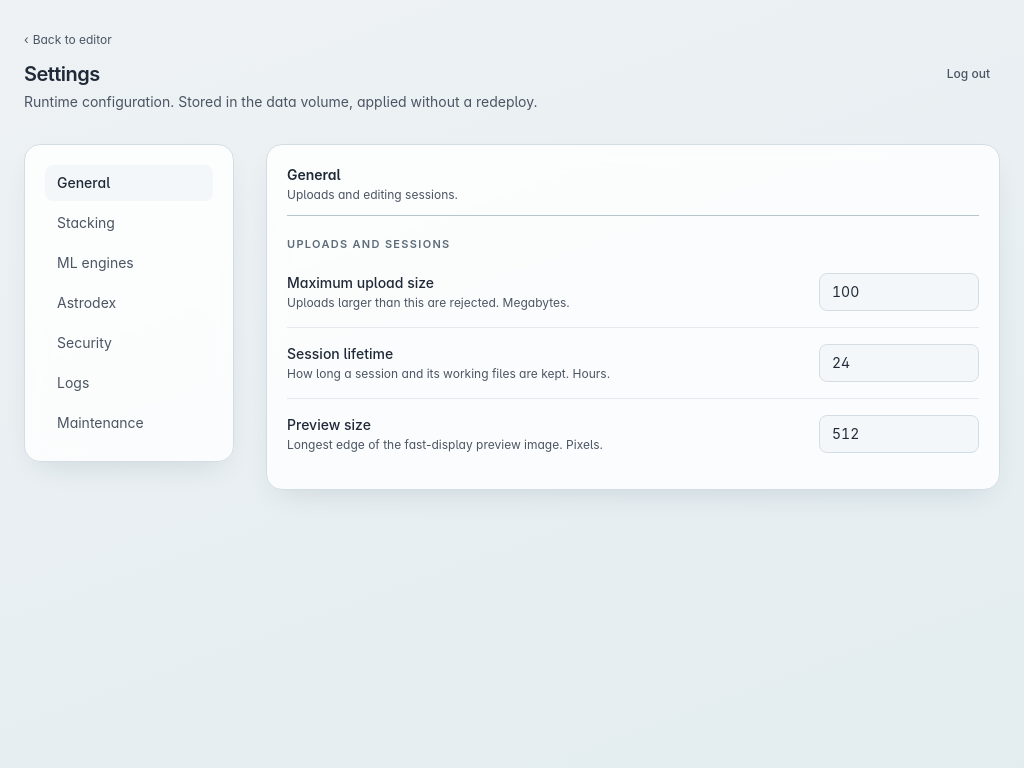
Test case: SettingsView › tails the log file under the Logs section
Check: the number field labelled "Maximum upload size" is shown, box [819, 272, 979, 310]
Click the button "Logs". click: (129, 383)
box: [45, 365, 213, 401]
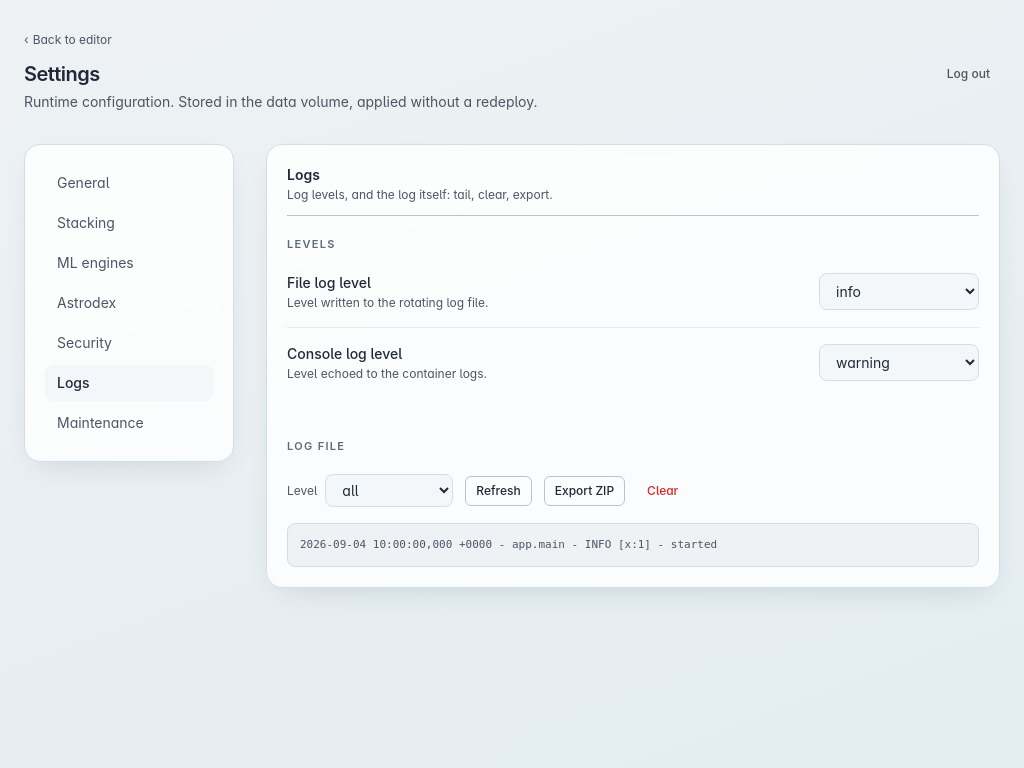
Check: the text "INFO [x:1] - started" is shown, box [300, 538, 717, 551]
